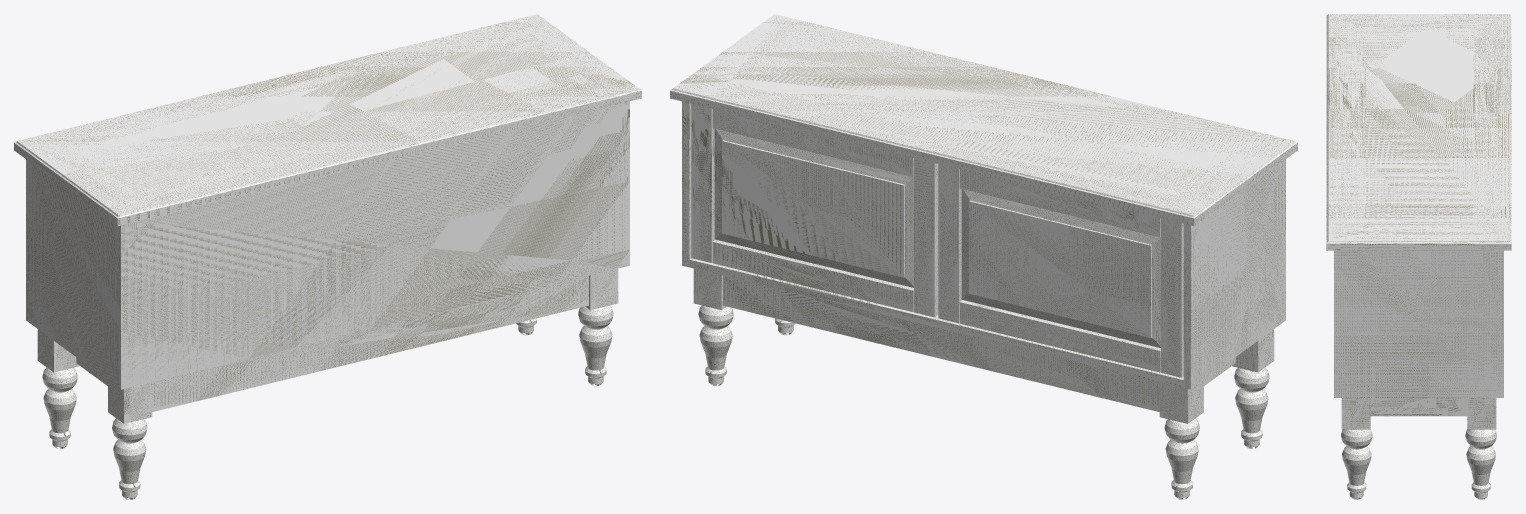
3 views of the same model, side by side, from view 1: azimuth 30°, elevation 25°; view 2: azimuth 150°, elevation 25°; view 3: azimuth 270°, elevation 25° (orthographic). The views are drawn at different scales.
Visible parts, largest first — view 1: mesh90_mesh90-geometry, mesh91_mesh91-geometry, mesh5_mesh5-geometry, mesh48_mesh48-geometry, mesh6_mesh6-geometry, mesh27_mesh27-geometry, mesh93_mesh93-geometry, mesh94_mesh94-geometry, mesh95_mesh95-geometry; view 2: mesh91_mesh91-geometry, mesh90_mesh90-geometry, mesh165_mesh165-geometry, mesh169_mesh169-geometry, mesh5_mesh5-geometry, mesh170_mesh170-geometry, mesh166_mesh166-geometry, mesh168_mesh168-geometry, mesh172_mesh172-geometry, mesh167_mesh167-geometry, mesh171_mesh171-geometry, mesh6_mesh6-geometry (+5 smaller); view 3: mesh91_mesh91-geometry, mesh90_mesh90-geometry, mesh92_mesh92-geometry, mesh27_mesh27-geometry, mesh69_mesh69-geometry, mesh94_mesh94-geometry, mesh96_mesh96-geometry.
Boxes of the visible parts, <box> form: mesh90_mesh90-geometry: <box>26,101,629,389</box>; mesh91_mesh91-geometry: <box>14,14,641,226</box>; mesh5_mesh5-geometry: <box>152,275,588,411</box>; mesh48_mesh48-geometry: <box>42,367,77,448</box>; mesh6_mesh6-geometry: <box>112,418,147,499</box>; mesh27_mesh27-geometry: <box>578,305,613,385</box>; mesh93_mesh93-geometry: <box>108,380,152,423</box>; mesh94_mesh94-geometry: <box>585,268,618,310</box>; mesh95_mesh95-geometry: <box>37,329,79,372</box>; mesh91_mesh91-geometry: <box>670,14,1297,226</box>; mesh90_mesh90-geometry: <box>682,101,1285,389</box>; mesh165_mesh165-geometry: <box>961,189,1160,348</box>; mesh169_mesh169-geometry: <box>714,129,913,287</box>; mesh5_mesh5-geometry: <box>723,275,1159,411</box>; mesh170_mesh170-geometry: <box>691,103,938,317</box>; mesh166_mesh166-geometry: <box>938,164,1183,377</box>; mesh168_mesh168-geometry: <box>959,300,1160,372</box>; mesh172_mesh172-geometry: <box>712,239,913,311</box>; mesh167_mesh167-geometry: <box>959,169,1160,237</box>; mesh171_mesh171-geometry: <box>712,109,913,176</box>; mesh6_mesh6-geometry: <box>1234,367,1269,448</box>; mesh91_mesh91-geometry: <box>1326,14,1511,250</box>; mesh90_mesh90-geometry: <box>1334,250,1503,397</box>; mesh92_mesh92-geometry: <box>1370,398,1467,416</box>; mesh27_mesh27-geometry: <box>1341,429,1372,499</box>; mesh69_mesh69-geometry: <box>1465,429,1496,499</box>; mesh94_mesh94-geometry: <box>1341,398,1370,429</box>; mesh96_mesh96-geometry: <box>1467,398,1496,429</box>.
Bounding box in the file's own units: 0.8392 × 0.4615 × 0.2877.
